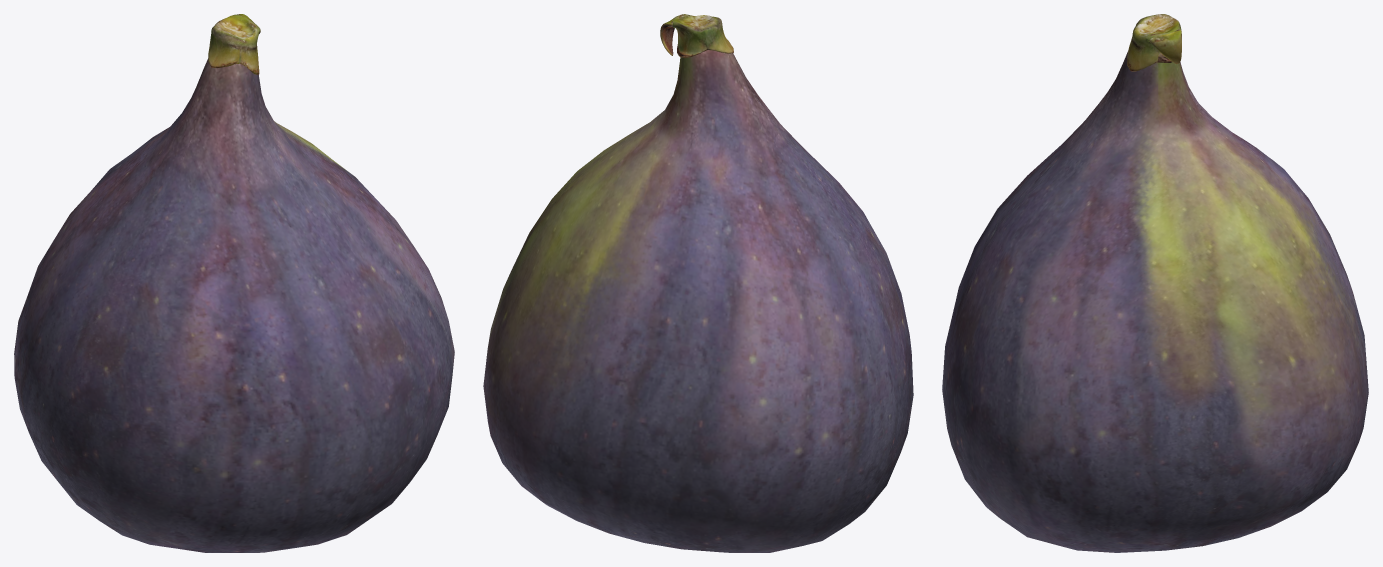
The model's file is Fig.fbx.
3 renders of one model, left to right at view 1: azimuth 30°, elevation 25°; view 2: azimuth 150°, elevation 25°; view 3: azimuth 270°, elevation 25°, orthographic. The views are drawn at different scales.
Parts seen in each view (by area): view 1: Fig; view 2: Fig; view 3: Fig.
Boxes of the visible parts, box(x1,y1,x2,y2) form: Fig: box(14, 14, 454, 552); Fig: box(483, 14, 913, 552); Fig: box(942, 14, 1368, 552).
Bounding box in the file's own units: 5.65 × 7.18 × 5.51.
